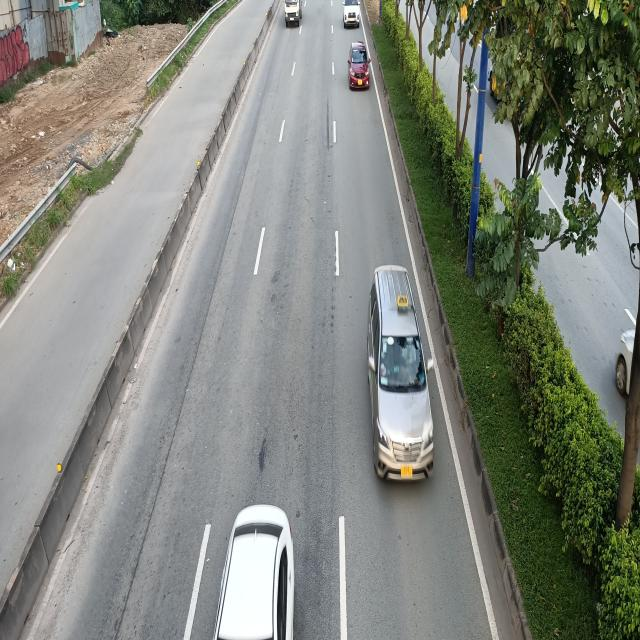car: (368, 264, 436, 484), (347, 41, 371, 90)
